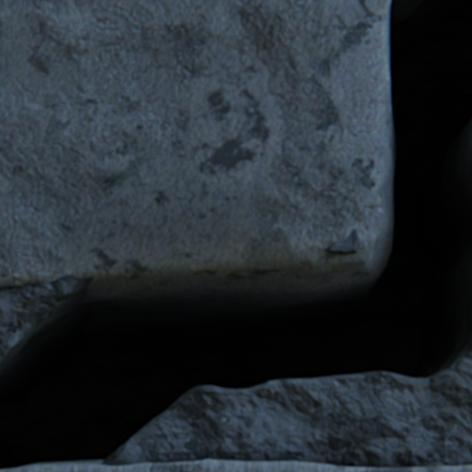brick: (0, 0, 389, 287), (0, 459, 471, 471)
crack: (0, 0, 471, 469)
